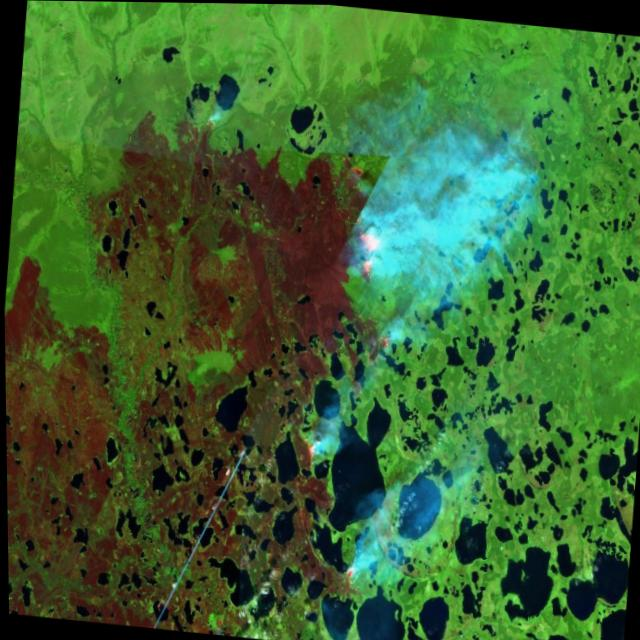fire: (323, 147, 396, 303), (347, 307, 399, 378), (286, 420, 329, 477), (329, 555, 363, 605), (193, 103, 229, 143)
